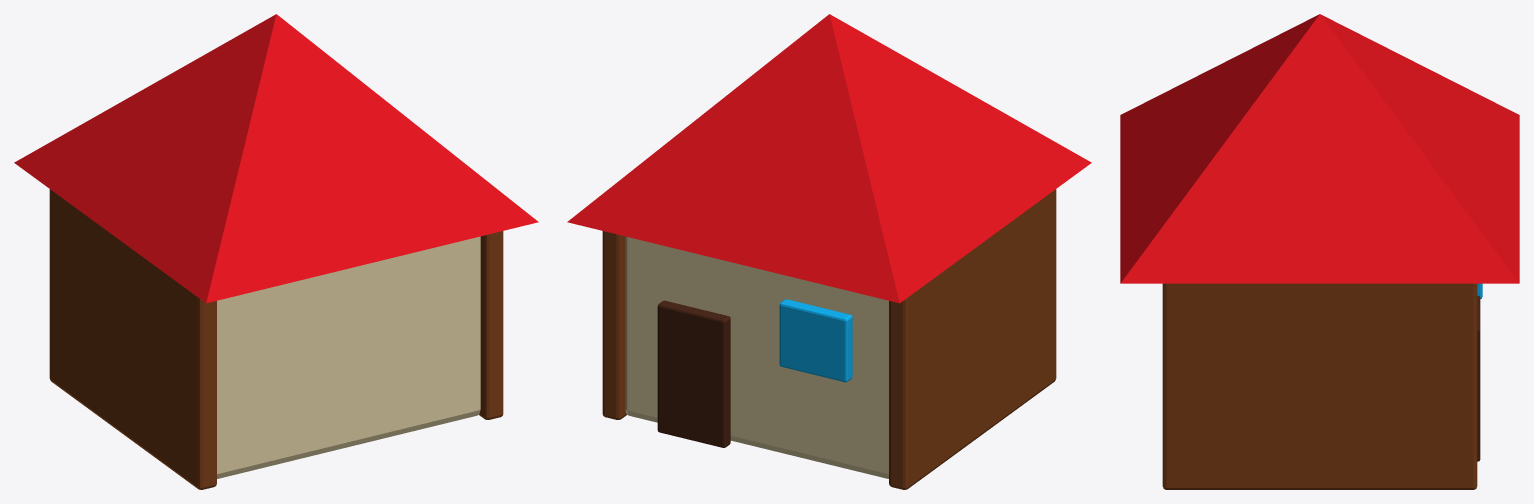
The model's file is village_house_a.obj.
The picture shows the model from 3 angles, left to right: view 1: azimuth 30°, elevation 25°; view 2: azimuth 150°, elevation 25°; view 3: azimuth 270°, elevation 25°; orthographic projection. The views are drawn at different scales.
Parts seen in each view (by area): view 1: house_a_roof_M_red, house_a_body_M_cream, house_a_beam_0.42_M_wood, house_a_beam_-0.42_M_wood; view 2: house_a_roof_M_red, house_a_body_M_cream, house_a_beam_0.42_M_wood, house_a_door_M_brown, house_a_window_M_cyan, house_a_beam_-0.42_M_wood; view 3: house_a_roof_M_red, house_a_beam_-0.42_M_wood, house_a_door_M_brown.
Part boxes in pixels (x1=…): house_a_roof_M_red: x1=14, y1=14, x2=538, y2=303; house_a_body_M_cream: x1=217, y1=236, x2=480, y2=478; house_a_beam_0.42_M_wood: x1=49, y1=189, x2=216, y2=489; house_a_beam_-0.42_M_wood: x1=479, y1=231, x2=503, y2=419; house_a_roof_M_red: x1=567, y1=14, x2=1091, y2=303; house_a_body_M_cream: x1=625, y1=236, x2=888, y2=478; house_a_beam_0.42_M_wood: x1=889, y1=189, x2=1056, y2=489; house_a_door_M_brown: x1=657, y1=300, x2=730, y2=447; house_a_window_M_cyan: x1=779, y1=299, x2=852, y2=382; house_a_beam_-0.42_M_wood: x1=602, y1=231, x2=626, y2=419; house_a_roof_M_red: x1=1120, y1=14, x2=1519, y2=283; house_a_beam_-0.42_M_wood: x1=1162, y1=283, x2=1477, y2=489; house_a_door_M_brown: x1=1477, y1=295, x2=1480, y2=461.
Bounding box in the file's own units: 0.9758 × 1.08 × 0.9758.
